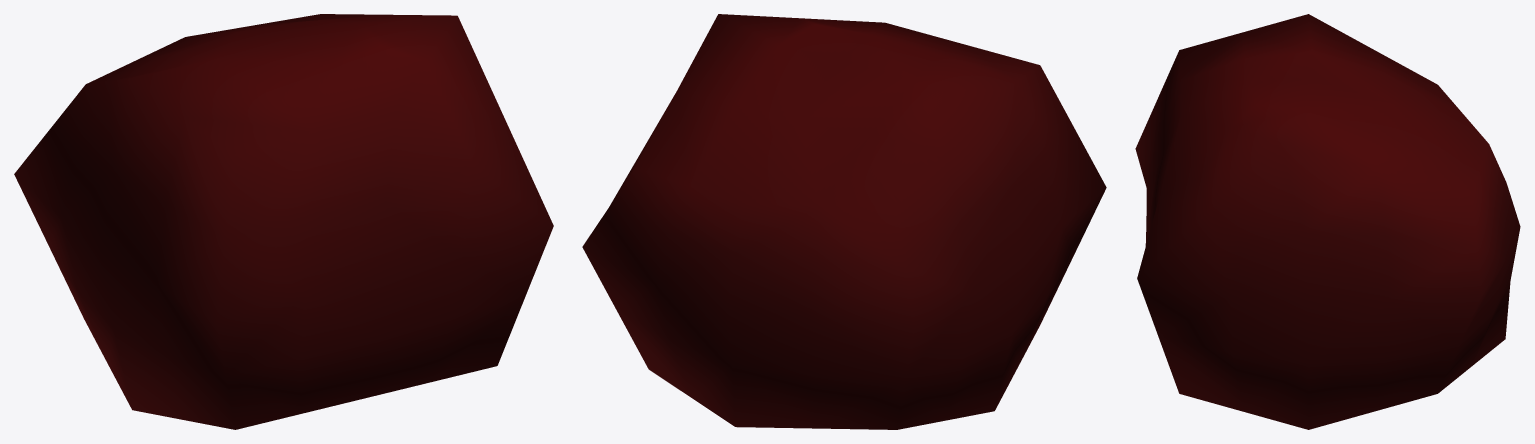
File: geology-pebbles-dirtchunk_v4.fbx
3 views of the same model, side by side, from view 1: azimuth 30°, elevation 25°; view 2: azimuth 150°, elevation 25°; view 3: azimuth 270°, elevation 25° (orthographic). The views are drawn at different scales.
Parts seen in each view (by area): view 1: DirtChunk_v4; view 2: DirtChunk_v4; view 3: DirtChunk_v4.
Boxes of the visible parts, bbox=[...] form: DirtChunk_v4: bbox=[14, 14, 553, 429]; DirtChunk_v4: bbox=[582, 14, 1106, 429]; DirtChunk_v4: bbox=[1135, 14, 1520, 429].
Bounding box in the file's own units: 5.86 × 5.07 × 6.03.
